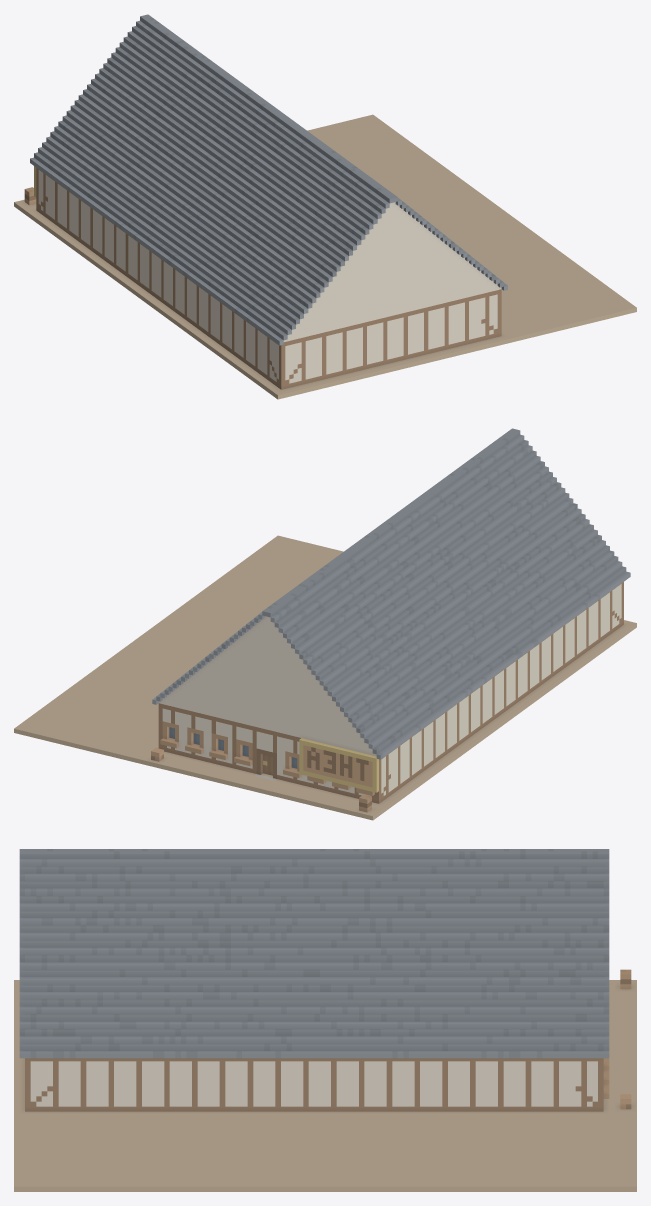
File: theatre.glb
3 renders of one model, top to bottom at view 1: azimuth 30°, elevation 25°; view 2: azimuth 150°, elevation 25°; view 3: azimuth 270°, elevation 25°, orthographic. The views are drawn at different scales.
Visible parts, largest first — view 1: theatre; view 2: theatre; view 3: theatre.
Part boxes in pixels (x1,y1,x2,y2): theatre: (14,14,636,399); theatre: (14,428,636,820); theatre: (14,849,636,1191).
Size of the model in its own units: 11 by 5 by 14.
